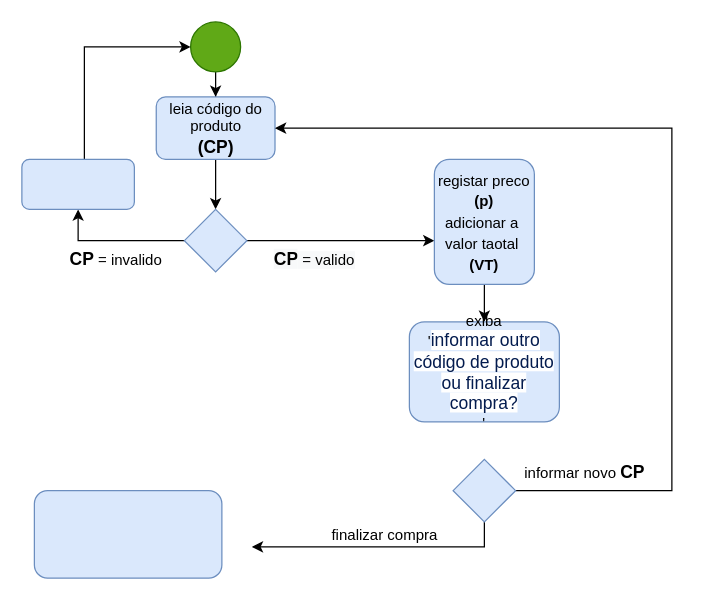
This 704x600 diagram has some shape labels left out. The centre of each missing label's shape, as x and y in pixels:
"Código não reconhecido" goes at (77,183).
"exiba ' Compra finalizada. Valor total: VT ? '" goes at (127,533).
